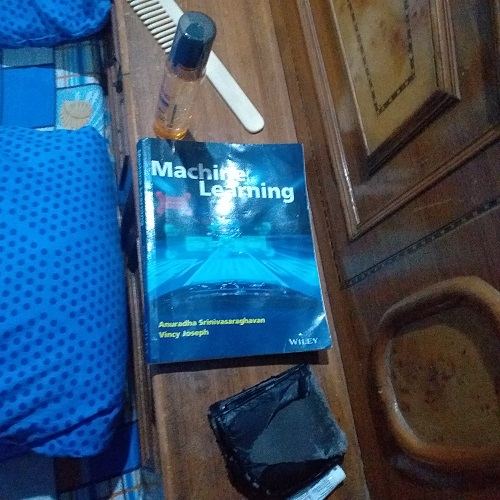book: (132, 137, 342, 352)
